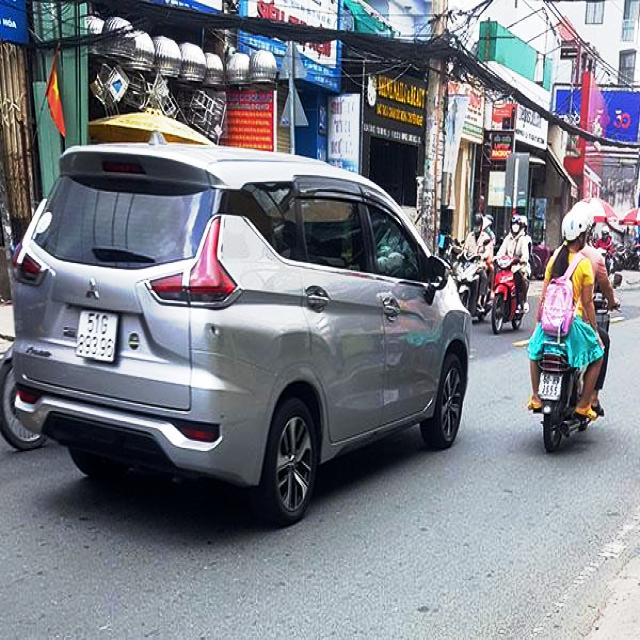license_plate: (76, 308, 121, 363), (538, 372, 564, 402)
